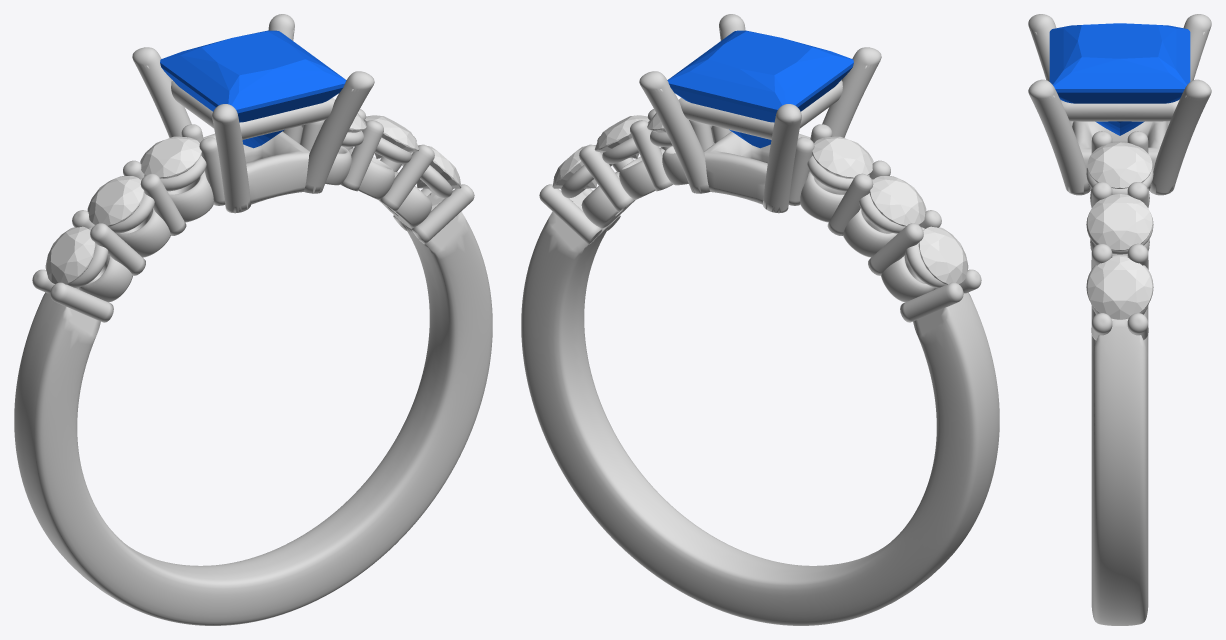
The model's file is bluesapphire-princess-platinum-4prong-straightband-7stone.glb.
3 views of the same model, side by side, from view 1: azimuth 30°, elevation 25°; view 2: azimuth 150°, elevation 25°; view 3: azimuth 270°, elevation 25° (orthographic).
Parts seen in each view (by area): view 1: metal, stone, side, side.001, side.002, side.004, side.005; view 2: metal, stone, side, side.001, side.002, side.004, side.005; view 3: metal, stone, side.005, side.004, side.003.
Part boxes in pixels (x1,y1,x2,y2): metal: (14, 14, 492, 625); stone: (160, 30, 346, 148); side: (45, 226, 95, 284); side.001: (87, 176, 144, 226); side.002: (140, 136, 201, 178); side.004: (364, 115, 419, 158); side.005: (416, 145, 461, 188); metal: (521, 14, 999, 625); stone: (667, 30, 853, 148); side: (918, 226, 968, 284); side.001: (869, 176, 926, 226); side.002: (812, 136, 873, 178); side.004: (594, 115, 649, 158); side.005: (552, 145, 597, 188); metal: (1028, 14, 1211, 625); stone: (1049, 23, 1190, 135); side.005: (1087, 256, 1152, 319); side.004: (1087, 194, 1152, 250); side.003: (1087, 142, 1152, 188).
Size of the model in its own units: 20.51 by 23.85 by 7.08.
